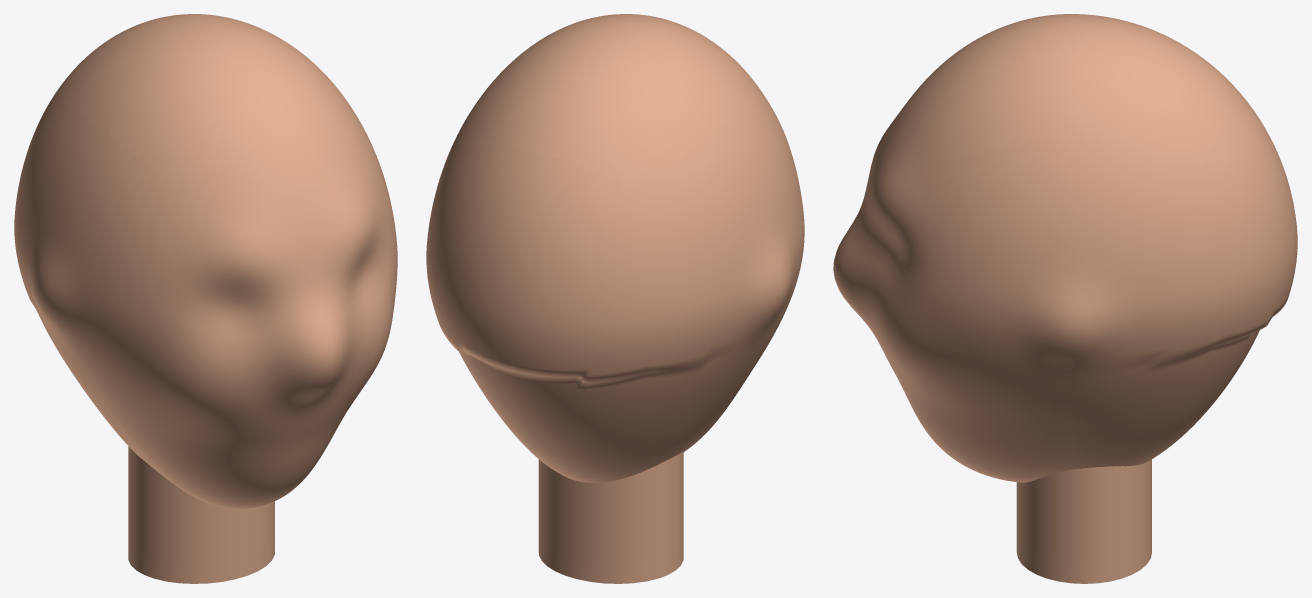
File: head_base.glb
3 renders of one model, left to right at view 1: azimuth 30°, elevation 25°; view 2: azimuth 150°, elevation 25°; view 3: azimuth 270°, elevation 25°, orthographic.
Parts seen in each view (by area): view 1: Head, Neck; view 2: Head, Neck; view 3: Head, Neck.
Part boxes in pixels (x1,y1,x2,y2): Head: (14, 14, 397, 508); Neck: (128, 446, 274, 583); Head: (426, 14, 804, 482); Neck: (538, 452, 683, 583); Head: (833, 14, 1297, 482); Neck: (1016, 459, 1151, 583).
Bounding box in the file's own units: 0.8678 × 1.31 × 1.05.
